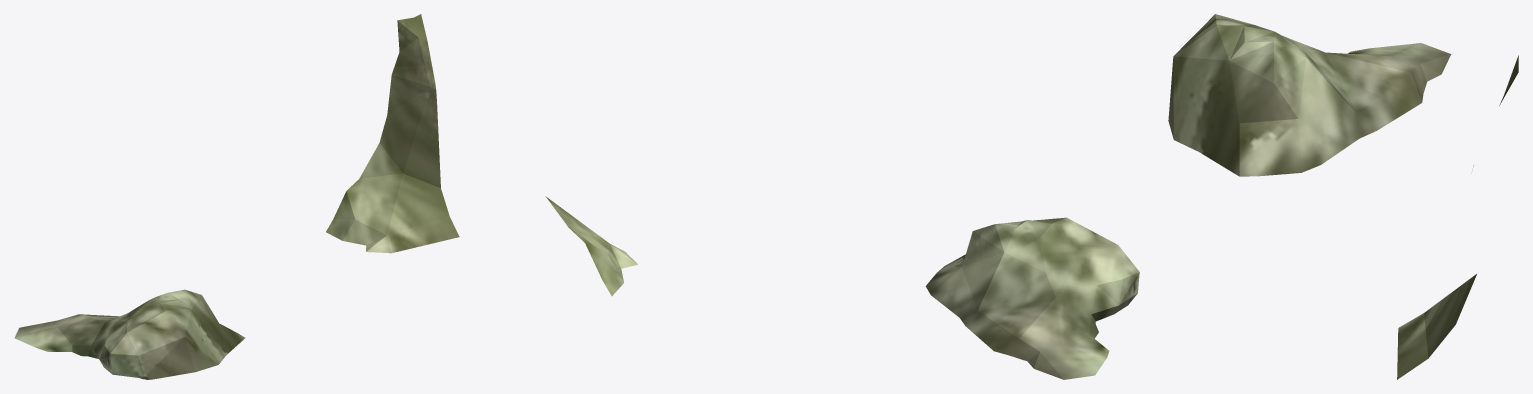
3 renders of one model, left to right at view 1: azimuth 30°, elevation 25°; view 2: azimuth 150°, elevation 25°; view 3: azimuth 270°, elevation 25°, orthographic. The views are drawn at different scales.
Bounding box in the file's own units: 2.06 × 0.8764 × 0.9042.
Materials: 1 (1 with a texture image).
